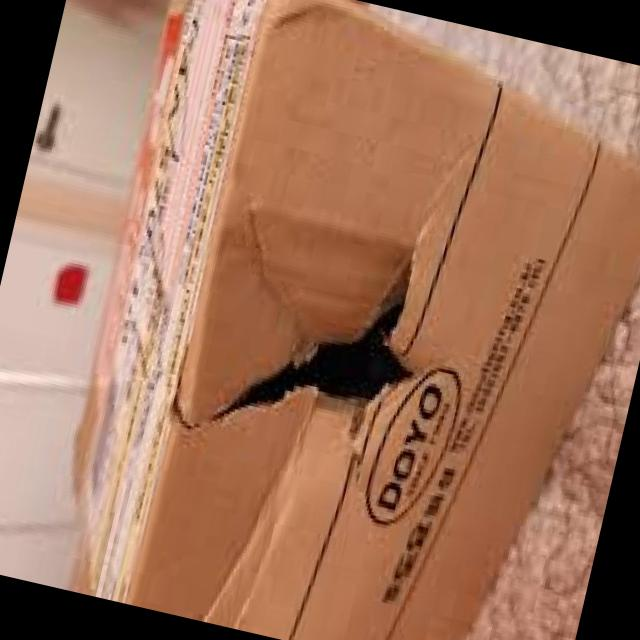box: (69, 0, 640, 640)
crushed: (202, 437, 292, 640)
opened: (161, 232, 420, 436)
